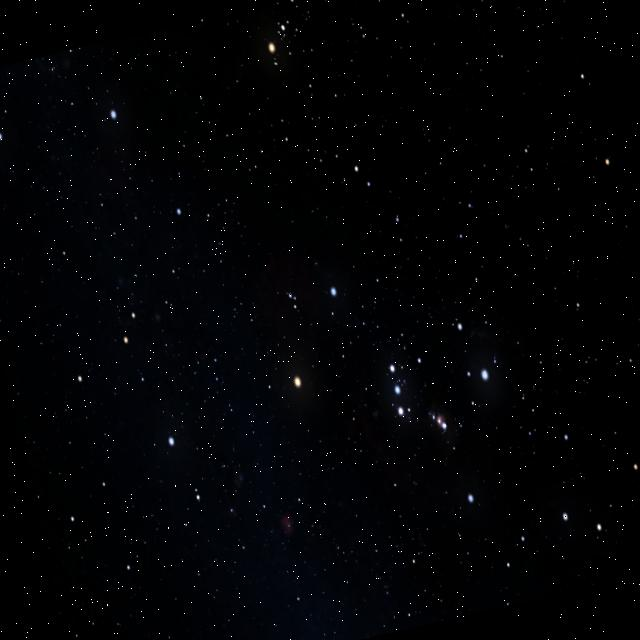Orion: (132, 122, 520, 566)
